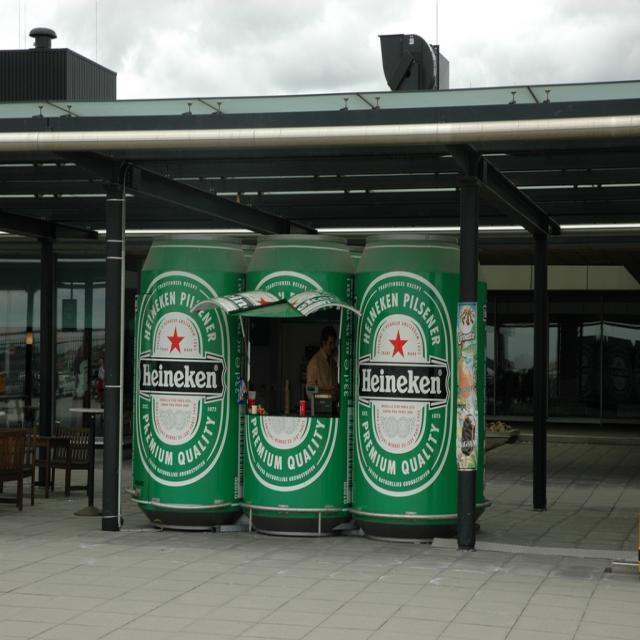heineken: (355, 271, 455, 497), (136, 273, 230, 487)
